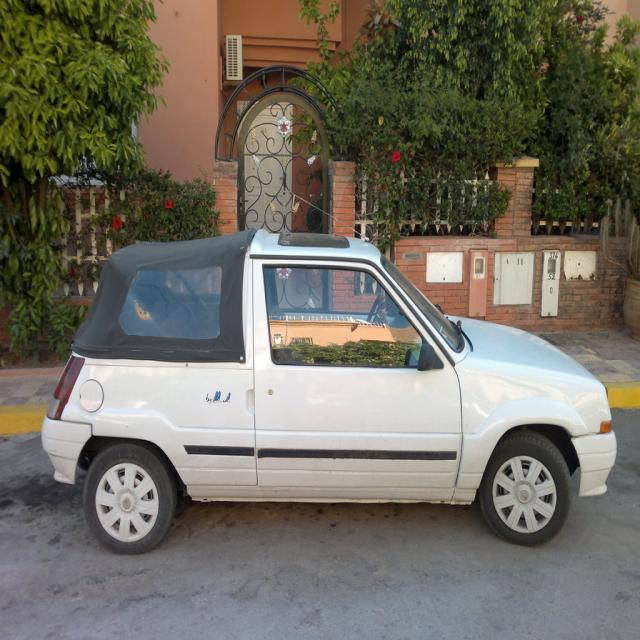car: (40, 228, 616, 552)
